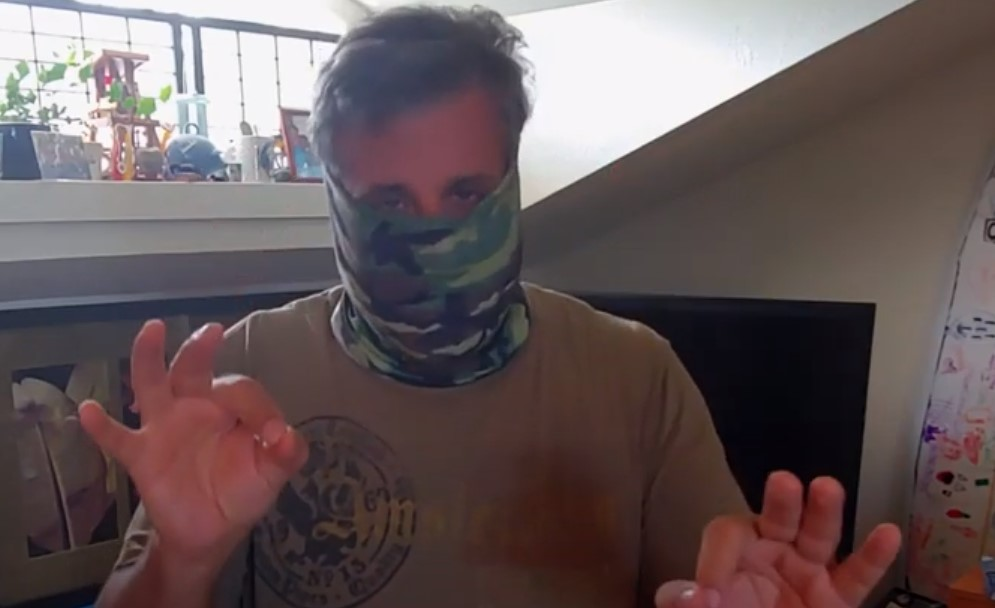face_with_mask: (313, 36, 525, 338)
